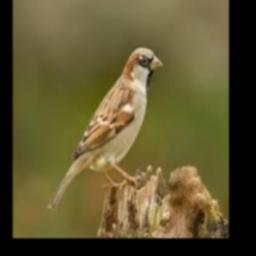Sparrow: (47, 47, 163, 212)
